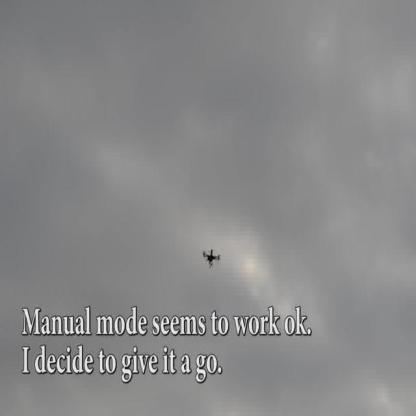drone: (200, 242, 225, 270)
